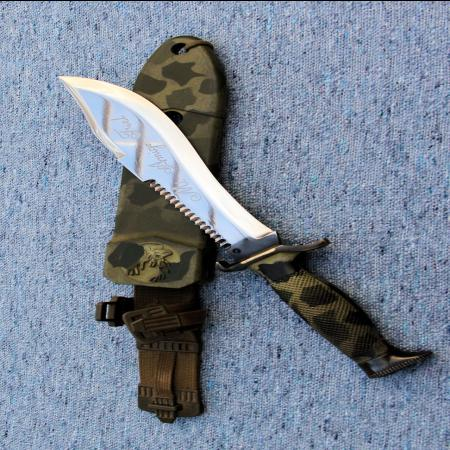long weapon: (48, 71, 282, 254)
